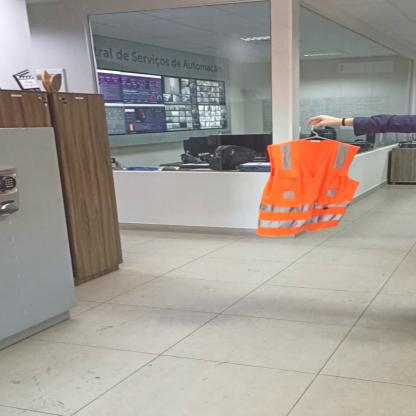colete: (257, 136, 360, 236)
